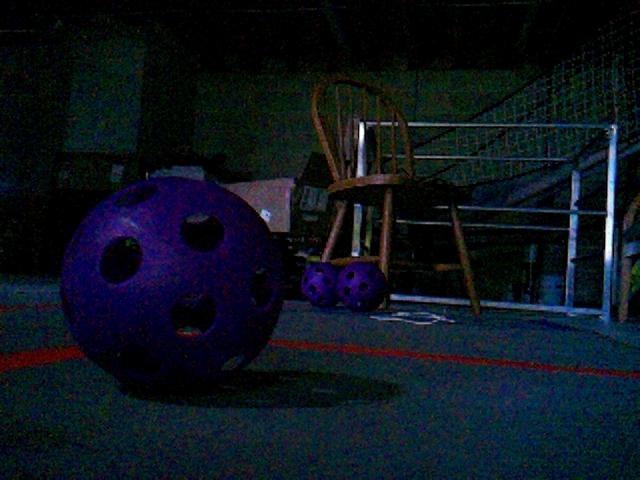Purple: (57, 176, 287, 392), (334, 260, 387, 312), (300, 260, 341, 307)
